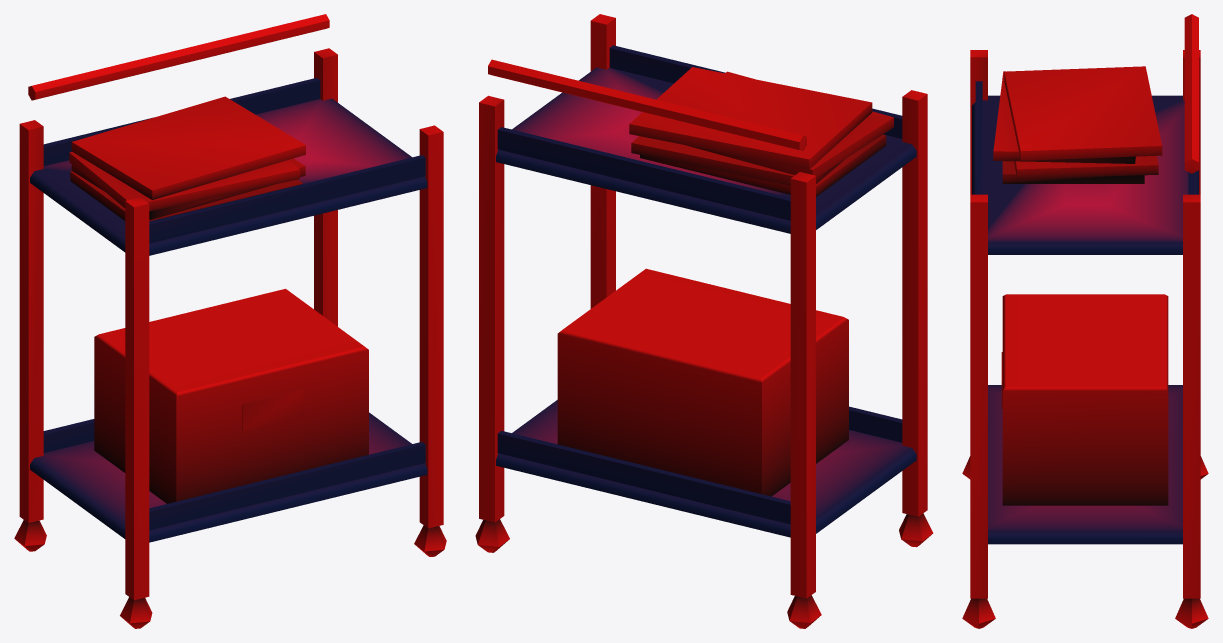
File: CI_Office_DocumentCart.glb
3 renders of one model, left to right at view 1: azimuth 30°, elevation 25°; view 2: azimuth 150°, elevation 25°; view 3: azimuth 270°, elevation 25°, orthographic. The views are drawn at different scales.
Parts seen in each view (by area): view 1: CI_Office_DocumentCart; view 2: CI_Office_DocumentCart; view 3: CI_Office_DocumentCart.
Part boxes in pixels (x1,y1,x2,y2): CI_Office_DocumentCart: (14, 14, 446, 628); CI_Office_DocumentCart: (475, 14, 933, 628); CI_Office_DocumentCart: (962, 14, 1208, 628).
Size of the model in its own units: 0.6343 by 0.874 by 0.4171.
